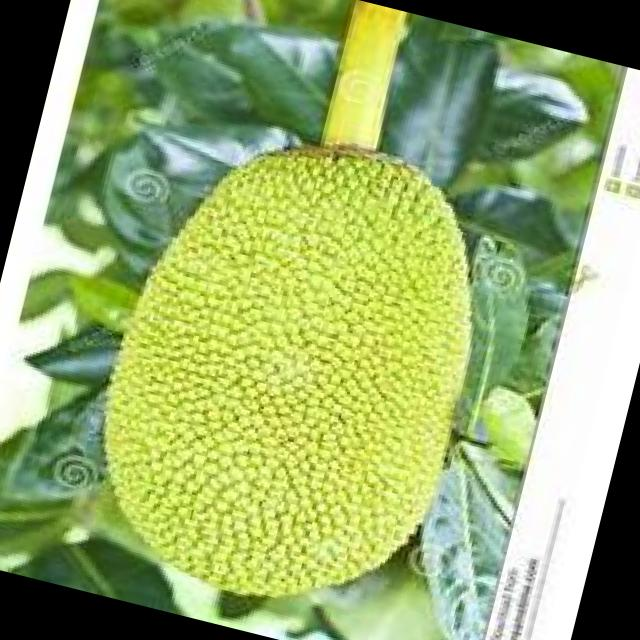Fruit: (74, 80, 548, 503)
